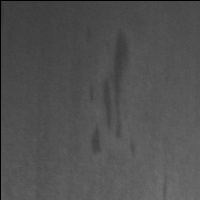inclusion: (83, 27, 133, 158), (86, 120, 105, 161), (158, 175, 170, 200)
